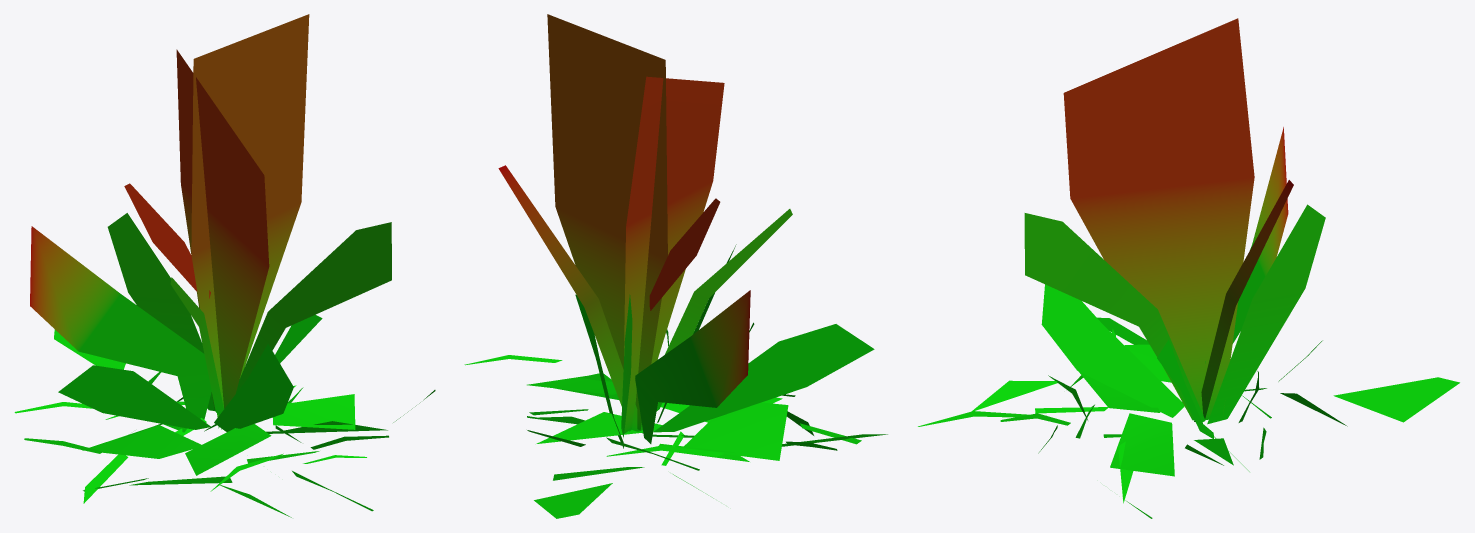
File: Var10_LOD3.fbx
3 renders of one model, left to right at view 1: azimuth 30°, elevation 25°; view 2: azimuth 150°, elevation 25°; view 3: azimuth 270°, elevation 25°, orthographic. The views are drawn at different scales.
Parts seen in each view (by area): view 1: _zfip_Var10_LOD3; view 2: _zfip_Var10_LOD3; view 3: _zfip_Var10_LOD3.
Boxes of the visible parts, x1,y1,x2,y2 form: _zfip_Var10_LOD3: [14, 14, 435, 517]; _zfip_Var10_LOD3: [464, 14, 887, 518]; _zfip_Var10_LOD3: [918, 18, 1459, 518].
Bounding box in the file's own units: 26.54 × 26.11 × 30.21.
